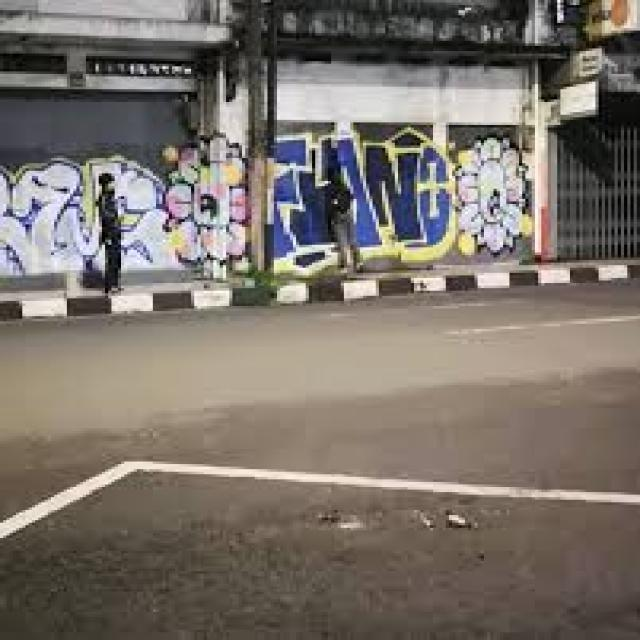-: (6, 126, 528, 278)
